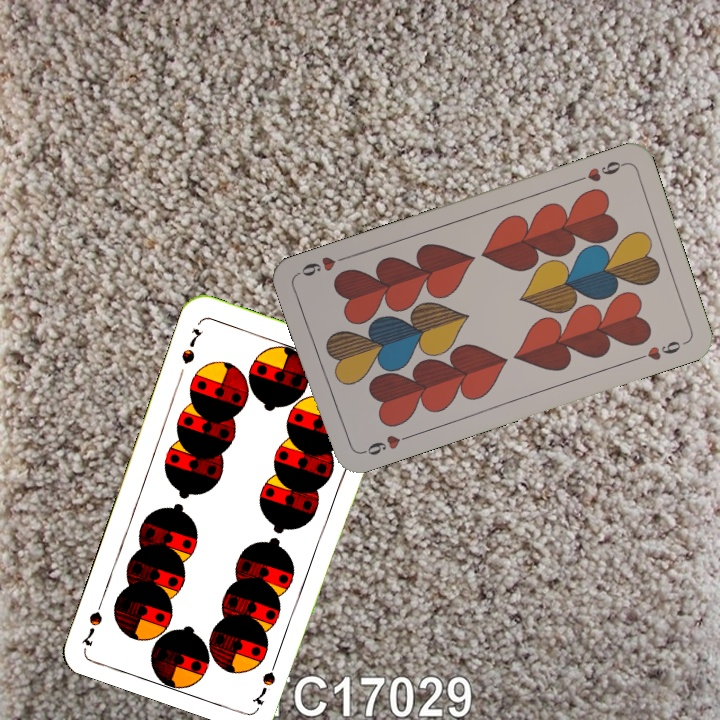H9: (570, 157, 628, 185), (356, 431, 414, 458)
S7: (249, 652, 281, 708), (177, 324, 207, 367)
